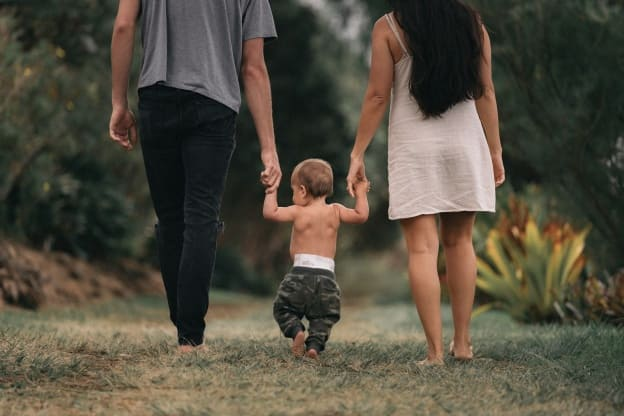person: (107, 0, 281, 346), (350, 0, 504, 365), (262, 161, 372, 358)
